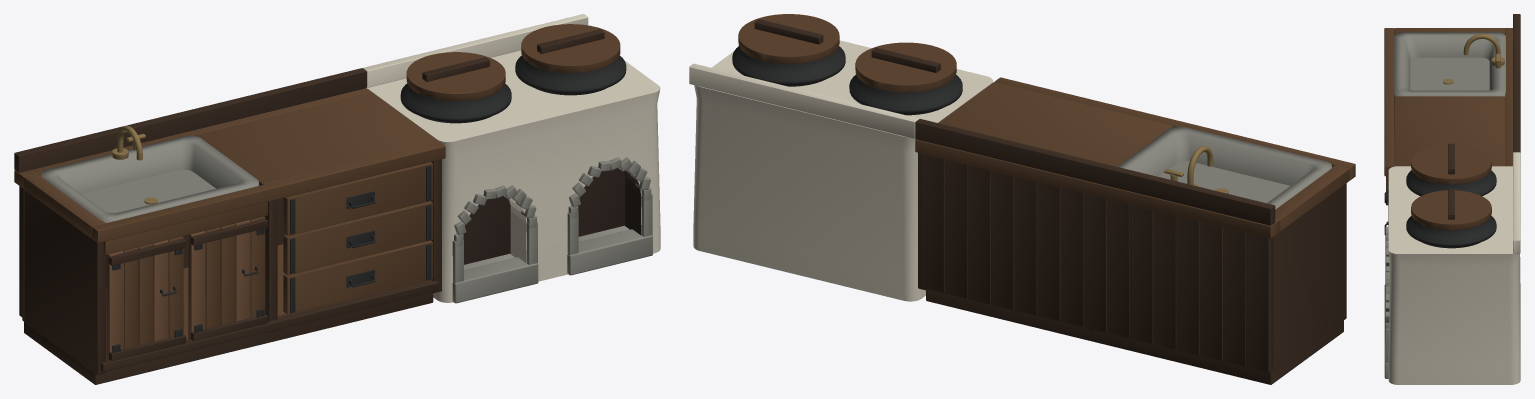
Rendered from kominka-kitchen-run-2560-01.glb.
The picture shows the model from 3 angles, left to right: view 1: azimuth 30°, elevation 25°; view 2: azimuth 150°, elevation 25°; view 3: azimuth 270°, elevation 25°; orthographic projection. The views are drawn at different scales.
Visible parts, largest first — view 1: kominka-kitchen-run-2560-01; view 2: kominka-kitchen-run-2560-01; view 3: kominka-kitchen-run-2560-01.
Part boxes in pixels (bbox=[...]): kominka-kitchen-run-2560-01: bbox=[14, 14, 660, 384]; kominka-kitchen-run-2560-01: bbox=[689, 14, 1355, 384]; kominka-kitchen-run-2560-01: bbox=[1384, 14, 1520, 384].
Size of the model in its own units: 2.56 by 0.85 by 0.65.
